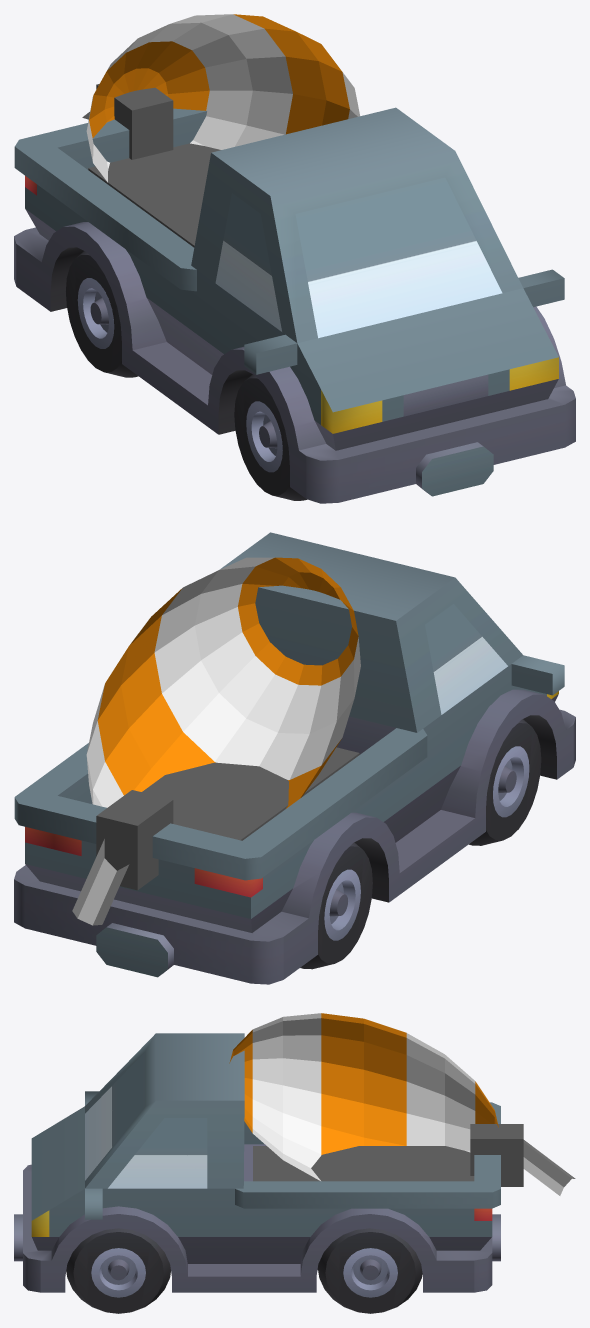
File: betongbil.glb
The picture shows the model from 3 angles, top to bottom: view 1: azimuth 30°, elevation 25°; view 2: azimuth 150°, elevation 25°; view 3: azimuth 270°, elevation 25°; orthographic projection. The views are drawn at different scales.
Visible parts, largest first — view 1: body, till-betongbil, wheel-back-right, wheel-front-right; view 2: body, till-betongbil, wheel-front-right, wheel-back-right; view 3: body, till-betongbil, wheel-front-left, wheel-back-left.
Part boxes in pixels (x1=…): body: x1=14, y1=107, x2=575, y2=503; till-betongbil: x1=82, y1=14, x2=359, y2=247; wheel-back-right: x1=66, y1=251, x2=138, y2=377; wheel-front-right: x1=234, y1=374, x2=307, y2=500; body: x1=14, y1=532, x2=575, y2=984; till-betongbil: x1=72, y1=557, x2=360, y2=925; wheel-front-right: x1=469, y1=719, x2=541, y2=845; wheel-back-right: x1=300, y1=842, x2=372, y2=969; body: x1=14, y1=1033, x2=500, y2=1292; till-betongbil: x1=229, y1=1013, x2=575, y2=1195; wheel-front-left: x1=66, y1=1228, x2=170, y2=1313; wheel-back-left: x1=318, y1=1228, x2=422, y2=1313.
Bounding box in the file's own units: 1.5 × 1.59 × 3.17.
Materials: 5 (1 with a texture image).
